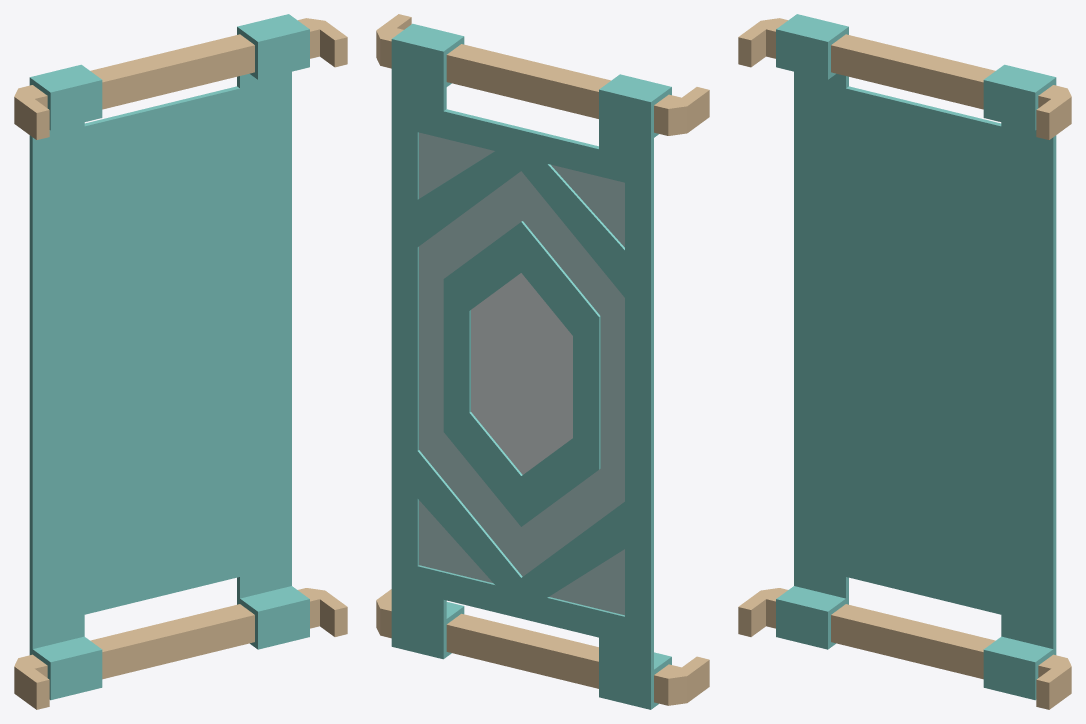
Rendered from Prop_Flag_2.glb.
3 views of the same model, side by side, from view 1: azimuth 30°, elevation 25°; view 2: azimuth 150°, elevation 25°; view 3: azimuth 330°, elevation 25° (orthographic).
Visible parts, largest first — view 1: Prop_Flag_2; view 2: Prop_Flag_2; view 3: Prop_Flag_2.
Boxes of the visible parts, <box> form: Prop_Flag_2: <box>14,14,347,709</box>; Prop_Flag_2: <box>376,14,709,709</box>; Prop_Flag_2: <box>738,14,1071,709</box>.
Size of the model in its own units: 0.54 by 1.01 by 0.099.
